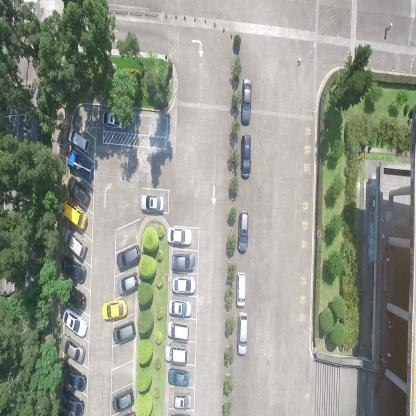car: (62, 228, 88, 260), (62, 200, 88, 231), (60, 256, 87, 285), (59, 334, 86, 363), (62, 307, 88, 337), (68, 151, 94, 179), (61, 364, 87, 392), (66, 176, 90, 206), (59, 386, 83, 415), (62, 284, 87, 311), (67, 127, 92, 153), (113, 319, 137, 345), (112, 385, 136, 411), (117, 242, 140, 269), (236, 211, 250, 255), (102, 107, 128, 130), (240, 78, 252, 127), (167, 223, 192, 246), (164, 342, 189, 365), (236, 312, 249, 356), (117, 271, 140, 295), (102, 298, 127, 320), (170, 274, 196, 295), (166, 366, 190, 388), (140, 193, 164, 215), (240, 134, 251, 180), (171, 251, 196, 271), (168, 298, 193, 318), (167, 320, 190, 341), (235, 272, 247, 308), (173, 390, 192, 410)
